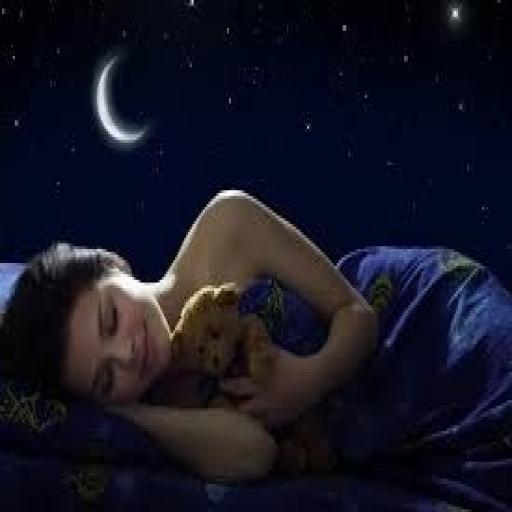sleeping: (2, 182, 510, 484)
